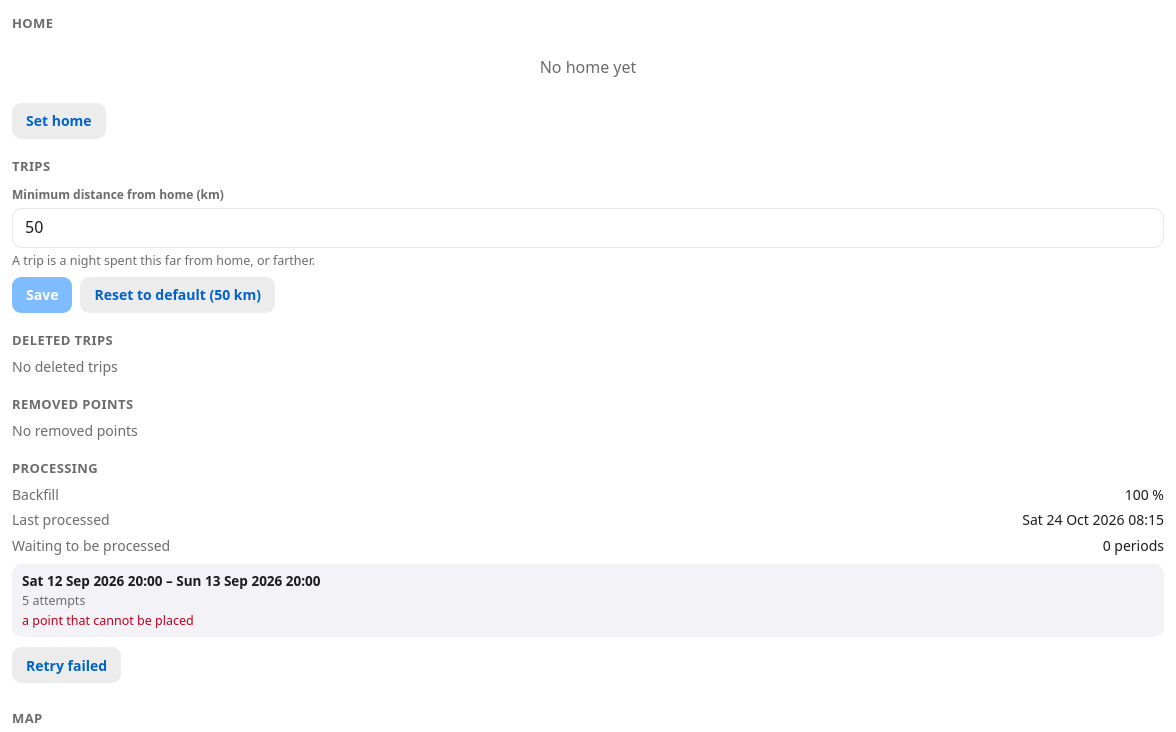
Test: SettingsPanel processing › SettingsPanel_says_there_was_nothing_to_retry_when_the_server_had_nothing_failed
What coordinates should you click on to do the following:
click the button "Retry failed"
I would click on:
 (67, 666)
Its box is x1=12 y1=648 x2=121 y2=684.
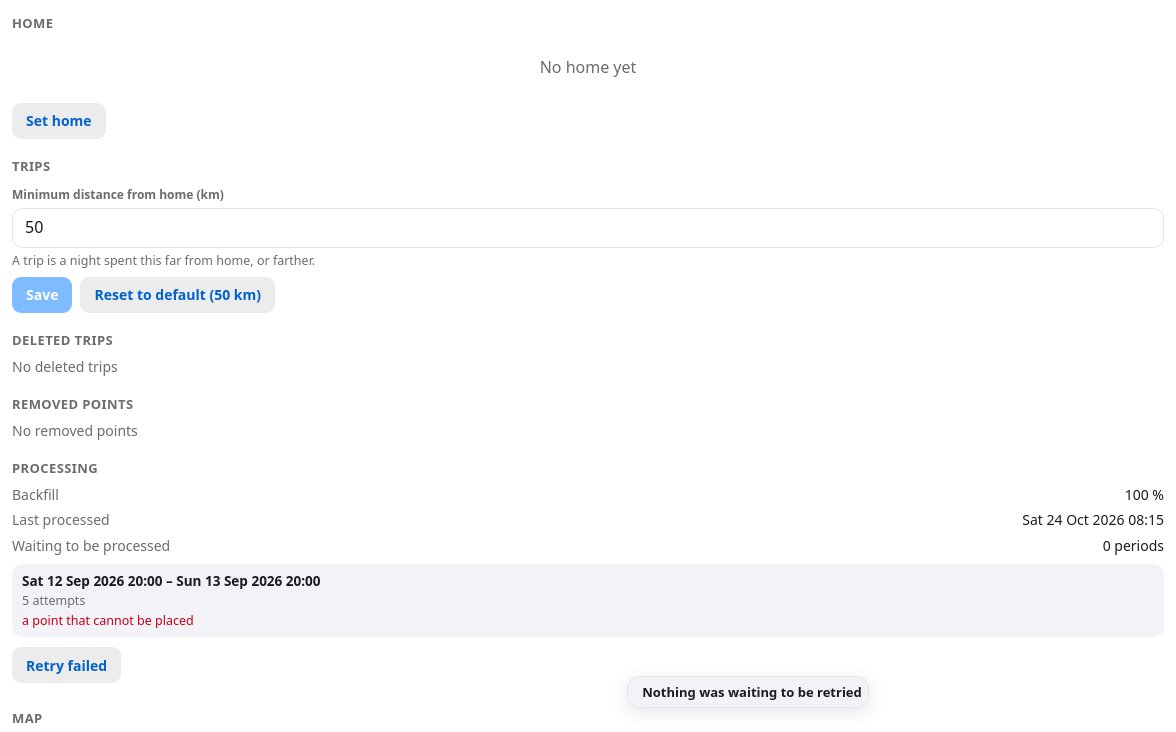
Check: the text "Nothing was waiting to be retried" is shown, box x1=642 y1=683 x2=862 y2=701
